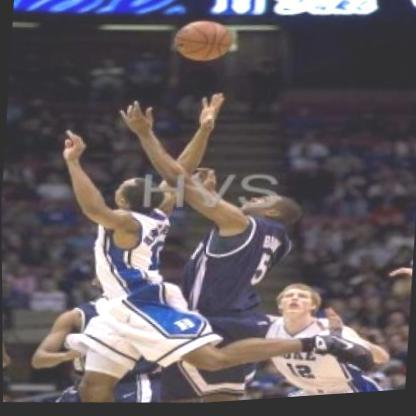basketball: (170, 15, 238, 76)
